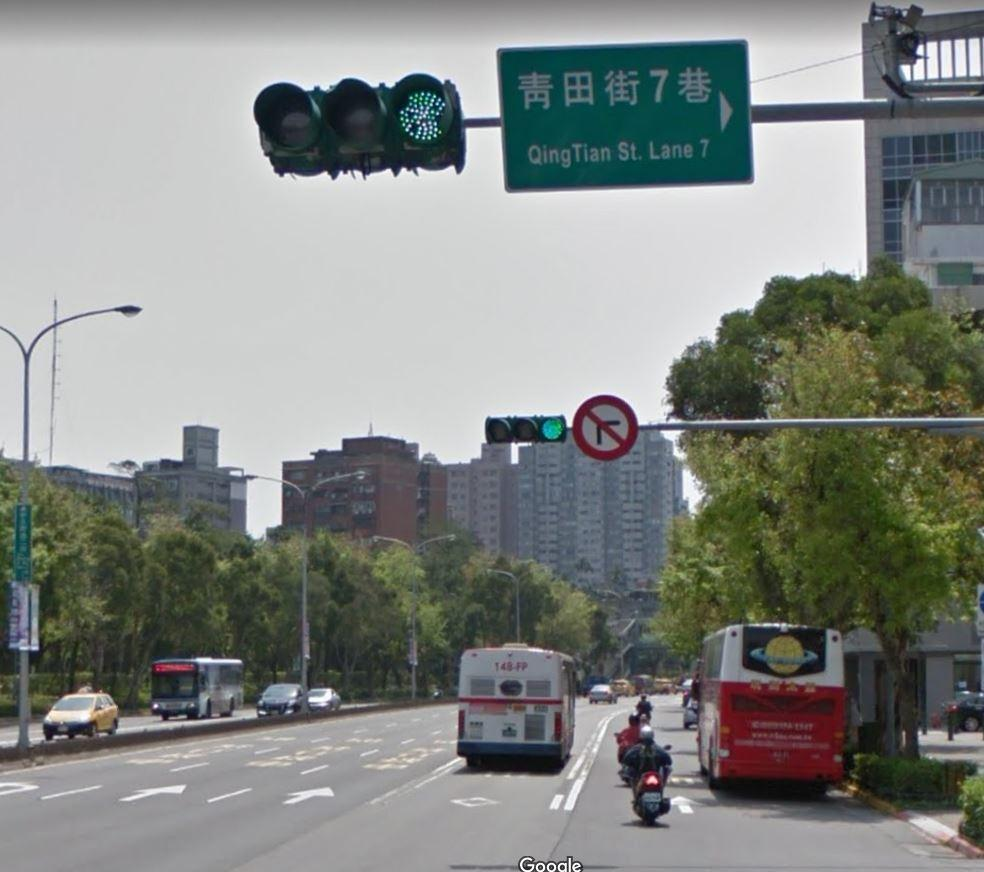ambulance: (452, 650, 578, 774)
bus: (688, 616, 856, 801), (143, 648, 242, 726)
car: (37, 682, 120, 750), (255, 680, 311, 729), (304, 678, 338, 716)
green_traffic_light: (249, 73, 467, 181), (484, 412, 571, 444)
motorcycle: (630, 754, 672, 820)
